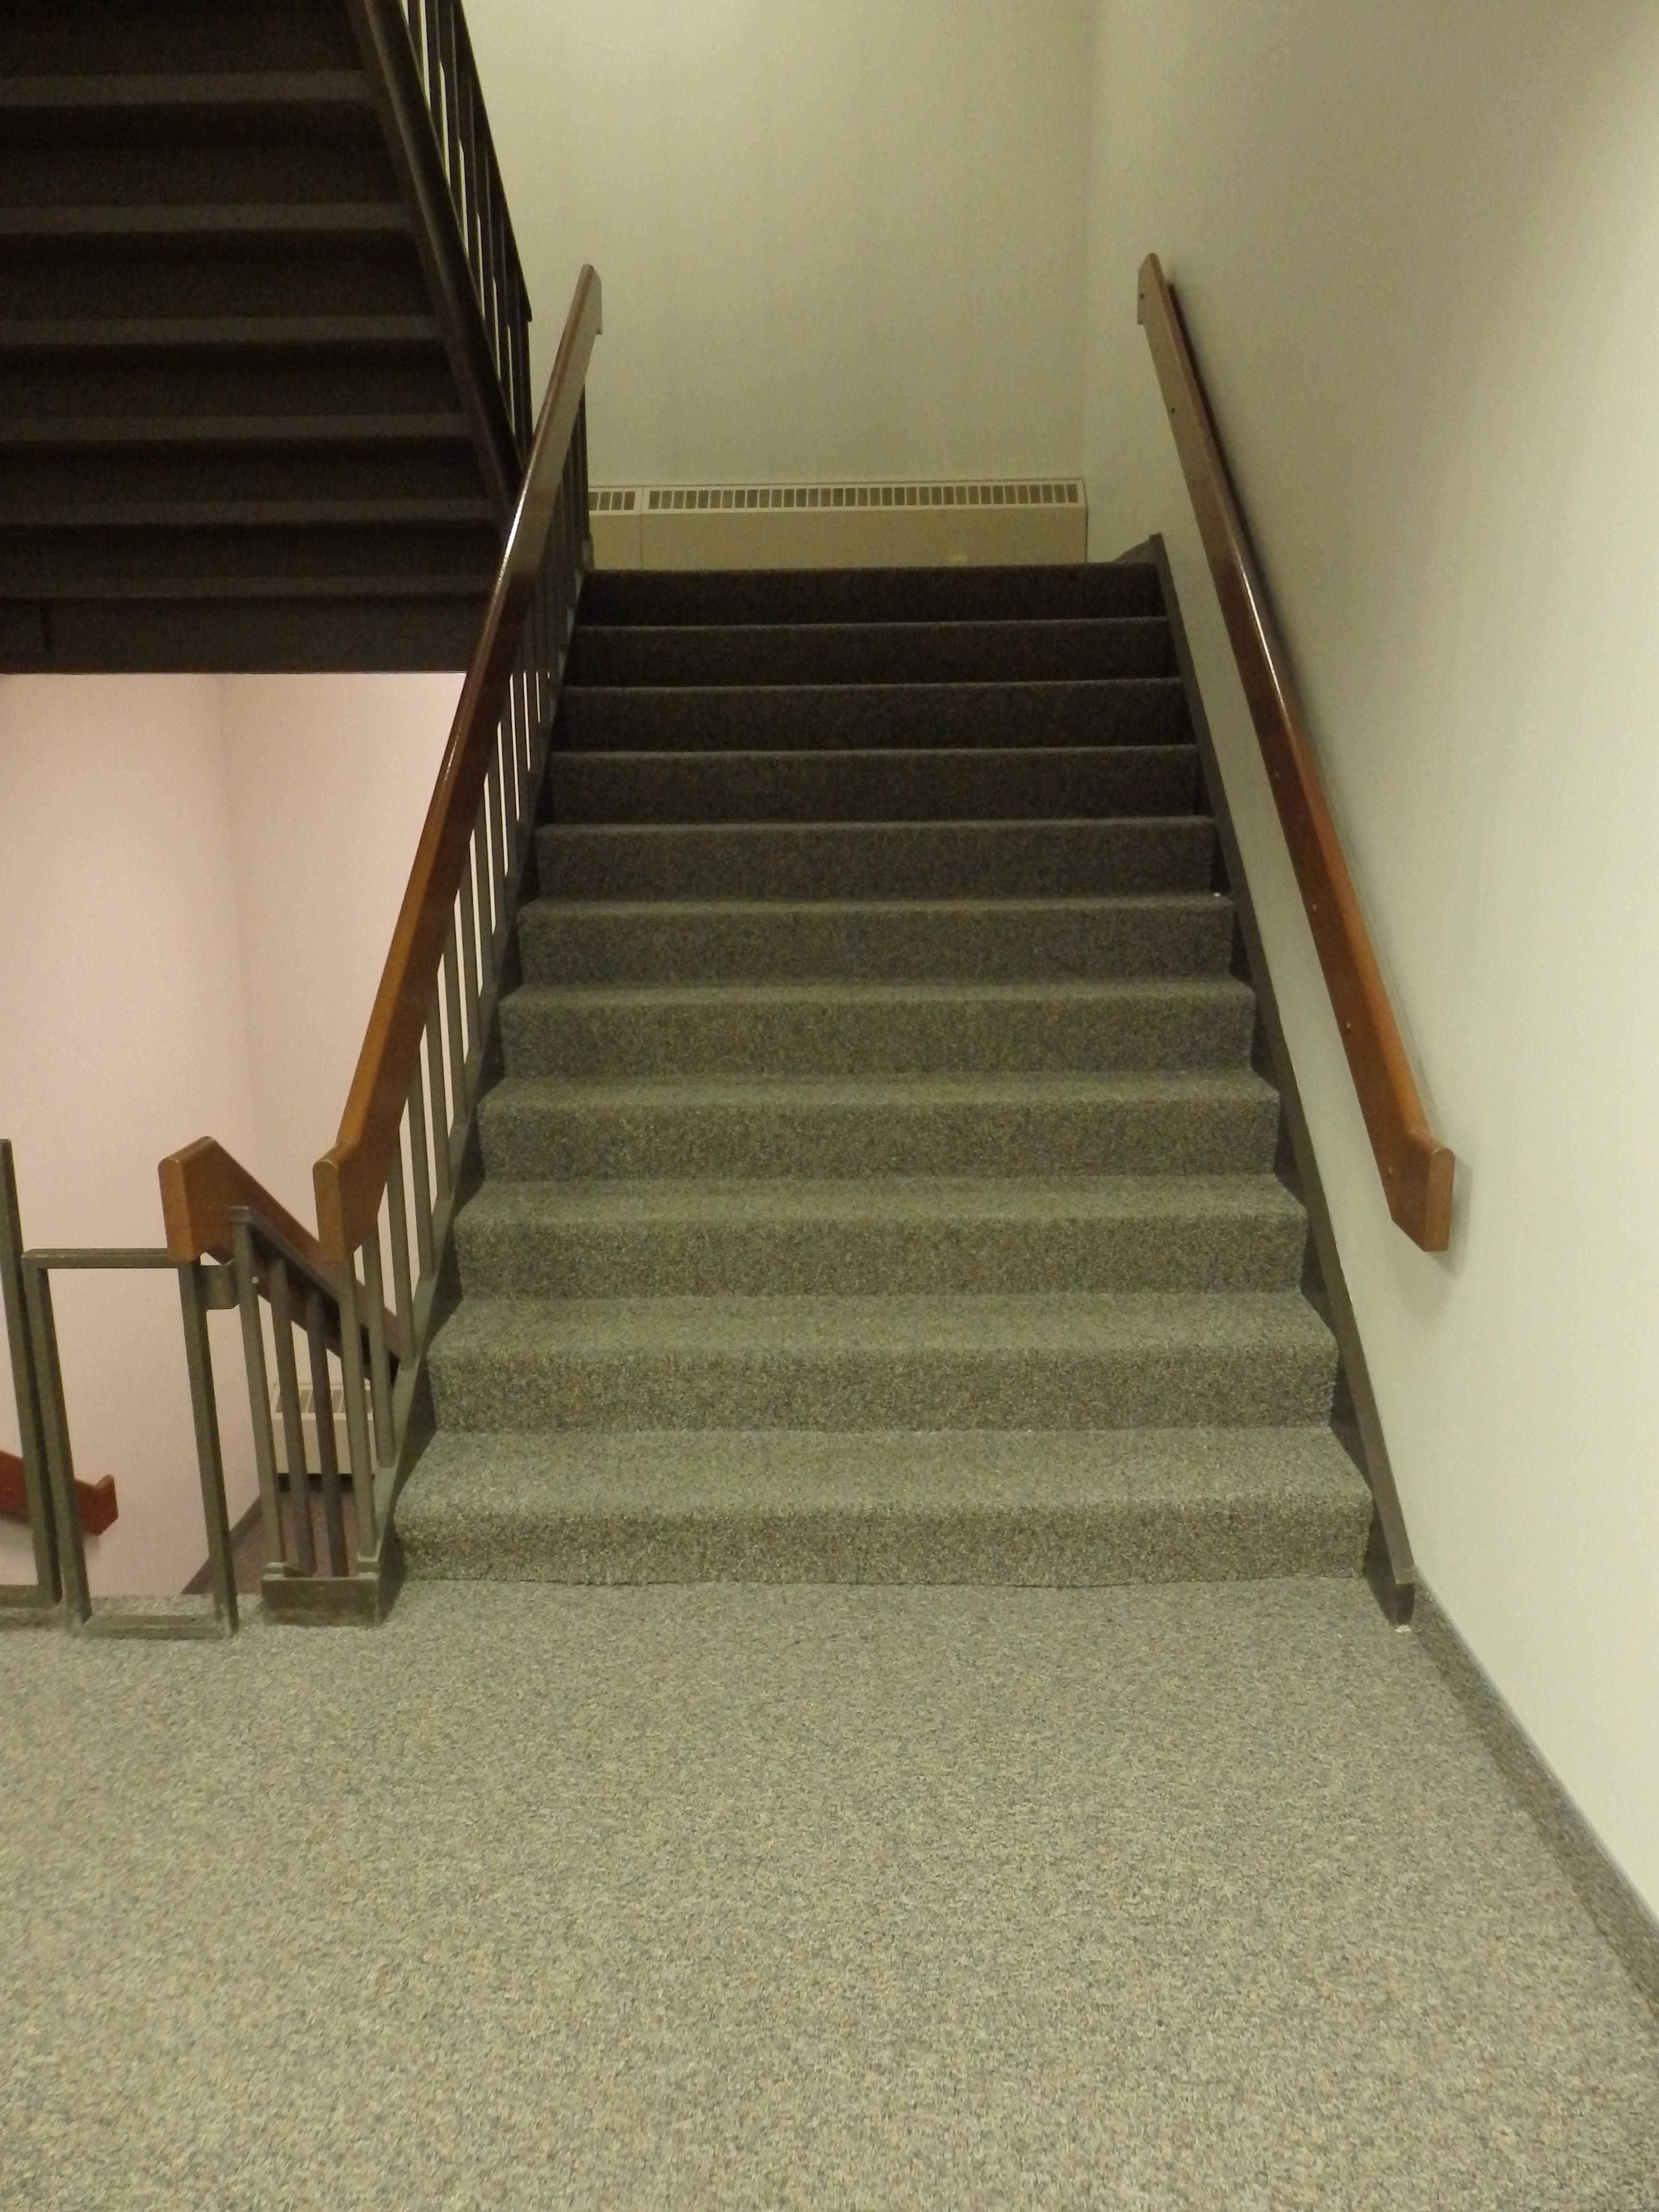stairs_up: (455, 547, 1338, 1581)
